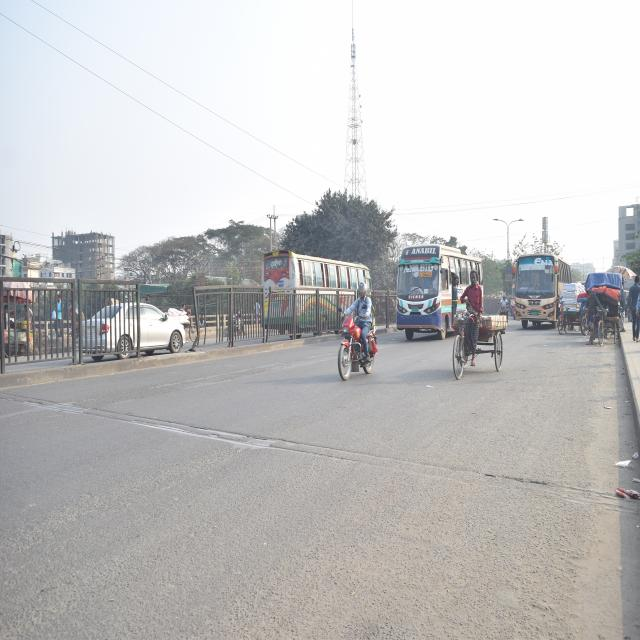bus: (261, 240, 374, 339), (394, 239, 482, 339), (513, 250, 570, 324)
car: (82, 290, 193, 362)
motorbike: (328, 300, 377, 387)
